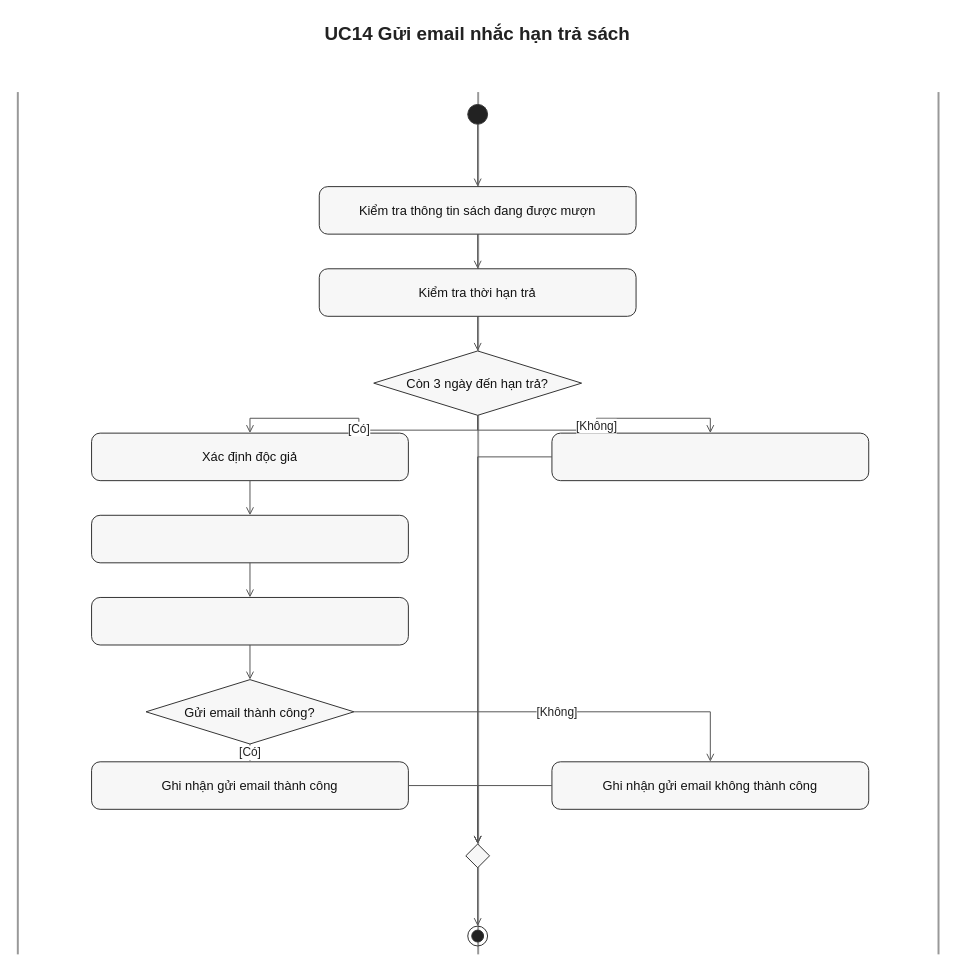
The diagram is 956 pixels wide and 971 high, and some of its shapes have lost their labels. Each missing label, with the centre of its shape:
Gửi email cho độc giả: the point at 249,620
Không gửi email: the point at 710,456
Tạo nội dung email nhắc hạn trả sách: the point at 249,538
